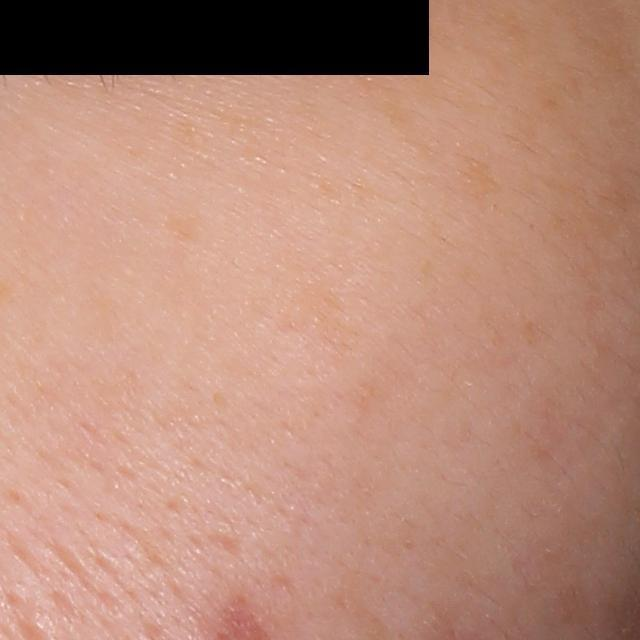atrophic_scar: (200, 526, 244, 558)
melasma: (316, 50, 429, 144), (261, 272, 367, 371), (450, 150, 504, 200), (155, 203, 203, 246)
